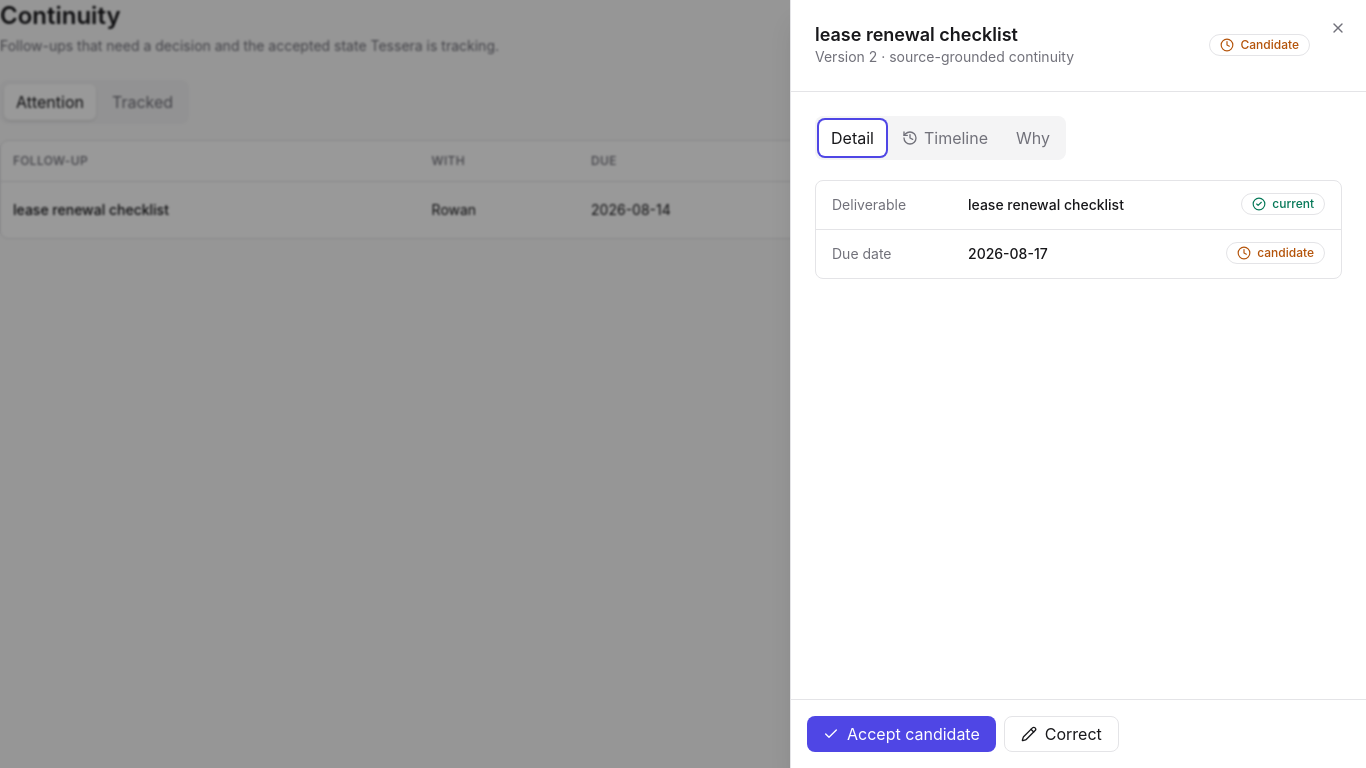
Test: FollowUpWorkspace › does not substitute detail revisions when Why fails
What coordinates should you click on to do the following:
click the tab "Why"
I would click on:
 (1033, 138)
Its box is [1004, 120, 1062, 156].
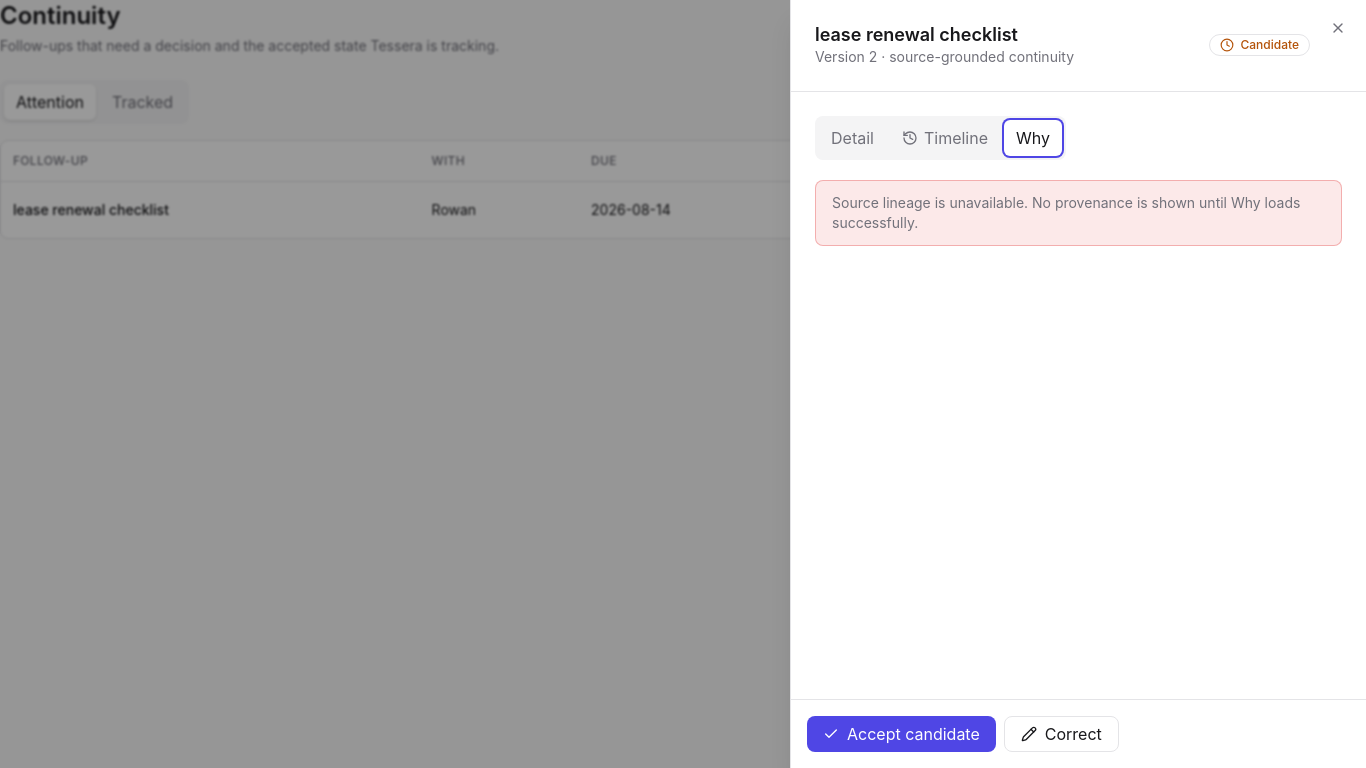
Check: the message shows "Source lineage is unavailable", box [832, 194, 1300, 230]
